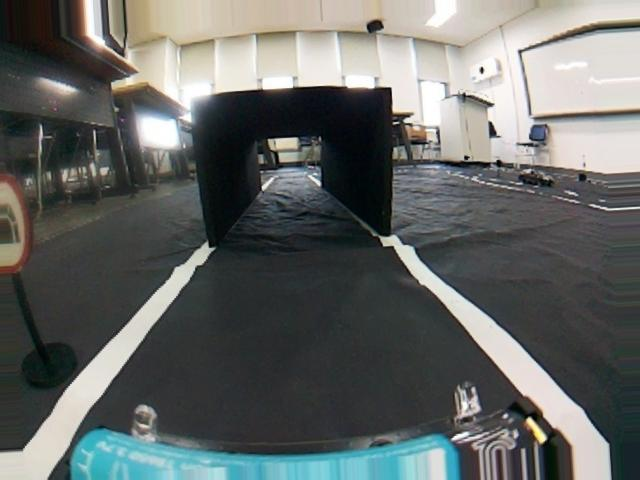sign_tunnel: (0, 175, 31, 275)
straight: (0, 168, 640, 480)
